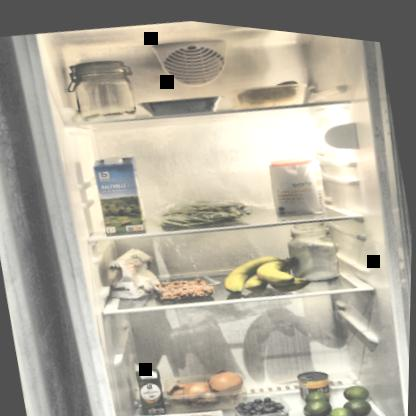banana: (219, 237, 316, 299)
blueberries: (227, 377, 299, 415)
corn: (297, 359, 334, 397)
green_beans: (152, 180, 266, 236)
heavy_cream: (136, 363, 169, 413)
lime: (299, 369, 378, 415)
milk: (90, 147, 152, 237)
onion: (159, 354, 252, 415)
potato: (233, 64, 313, 112)
shrimp: (154, 266, 217, 304)
